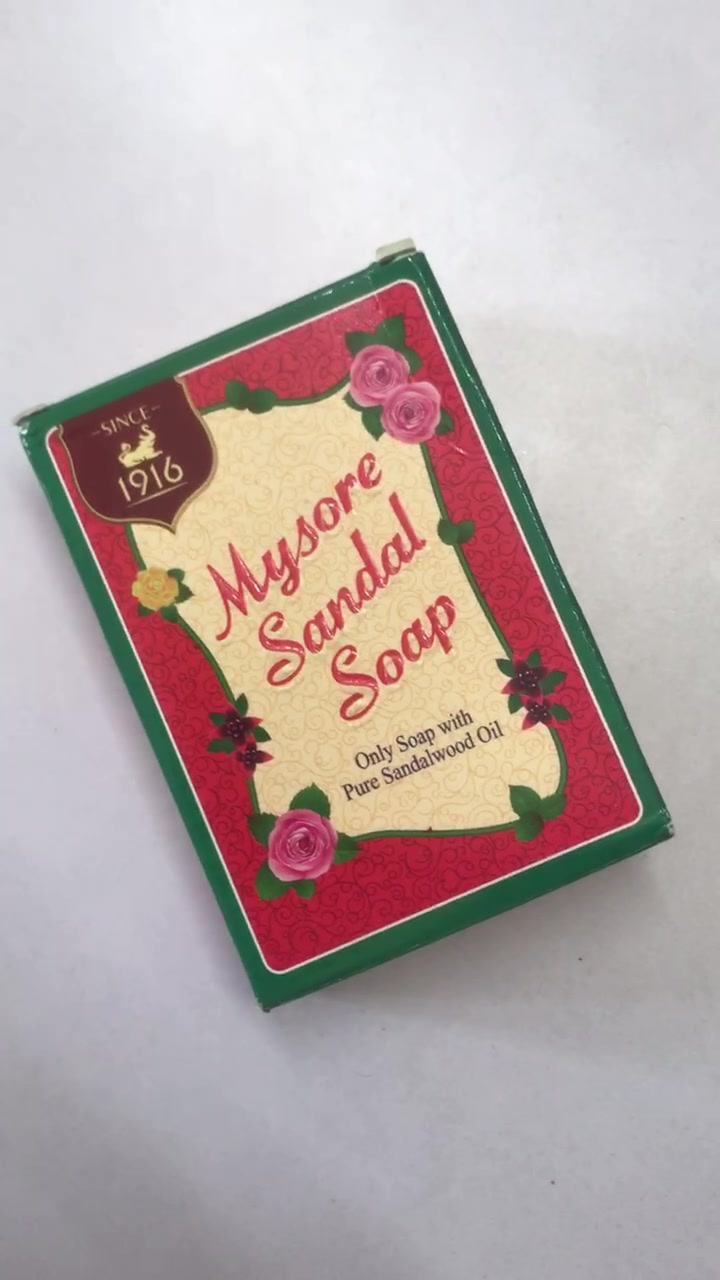mysore sandal soap: (20, 266, 677, 1014)
